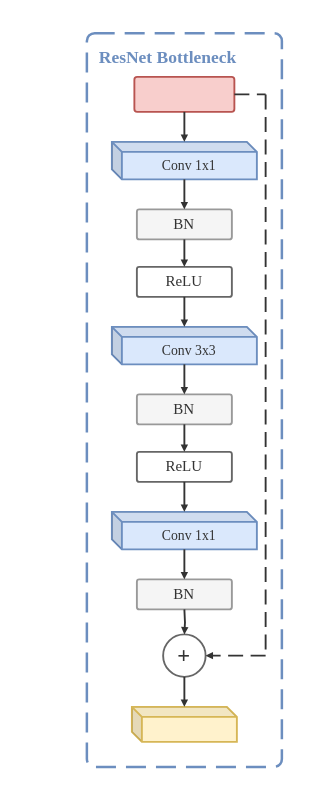
The diagram is 309 pixels wide and 794 high, and some of its shapes have lost their labels. The centre of each missing label's shape, as x and y in pixels:
"Input" belongs at (x=184, y=93).
"Output" belongs at (x=183, y=723).
